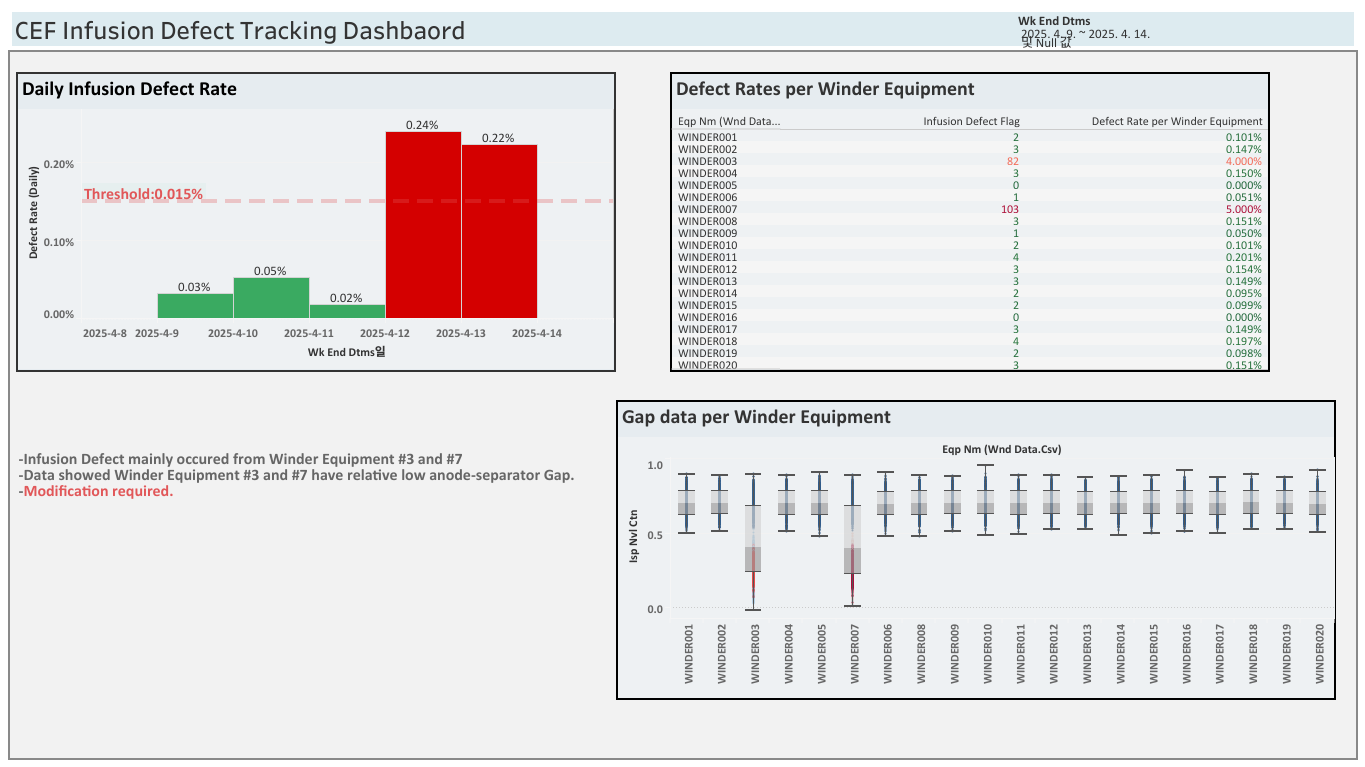

The dashboard page shown, as its layout file describes it:
{"tool":"tableau","page":{"name":"CEF Infusion Defect Tracking Dashbaord","canvas":[1366,768],"ordinal":0},"visuals":[{"type":"title","box":[8,8,1350,41]},{"type":"filter","title":"Daily Infusion Defect Rate","param":"[federated.0kzp9x90tqvfn612ygm4z08t7fah].[none:wk_end_dtms:qk]","box":[1018,11,336,45]},{"type":"worksheet","title":"Daily Infusion Defect Rate","mark":"Bar","rows":["Calculation_1129840624440102913"],"cols":["wk_end_dtms"],"box":[16,72,600,300]},{"type":"worksheet","title":"Defect Rates per Winder Equipment","mark":"Automatic","rows":["eqp_nm (wnd_data.csv)"],"box":[670,72,600,300]},{"type":"text","box":[16,387,570,170]},{"type":"worksheet","title":"Gap data per Winder Equipment","mark":"Circle","rows":["isp_nvl_ctn"],"cols":["eqp_nm (wnd_data.csv)"],"box":[616,400,720,300]}]}

Visuals, with their boxes in screenshot pixels (x1, y1, x2, y2), scaled from the page's 1366x768 canvas onto the 1365x767 screenshot:
title: <region>8, 8, 1357, 49</region>
"Daily Infusion Defect Rate" filter: <region>1017, 11, 1353, 56</region>
"Daily Infusion Defect Rate" worksheet (Bar marks): <region>16, 72, 616, 372</region>
"Defect Rates per Winder Equipment" worksheet: <region>670, 72, 1269, 372</region>
text: <region>16, 386, 586, 556</region>
"Gap data per Winder Equipment" worksheet (Circle marks): <region>616, 399, 1335, 699</region>
